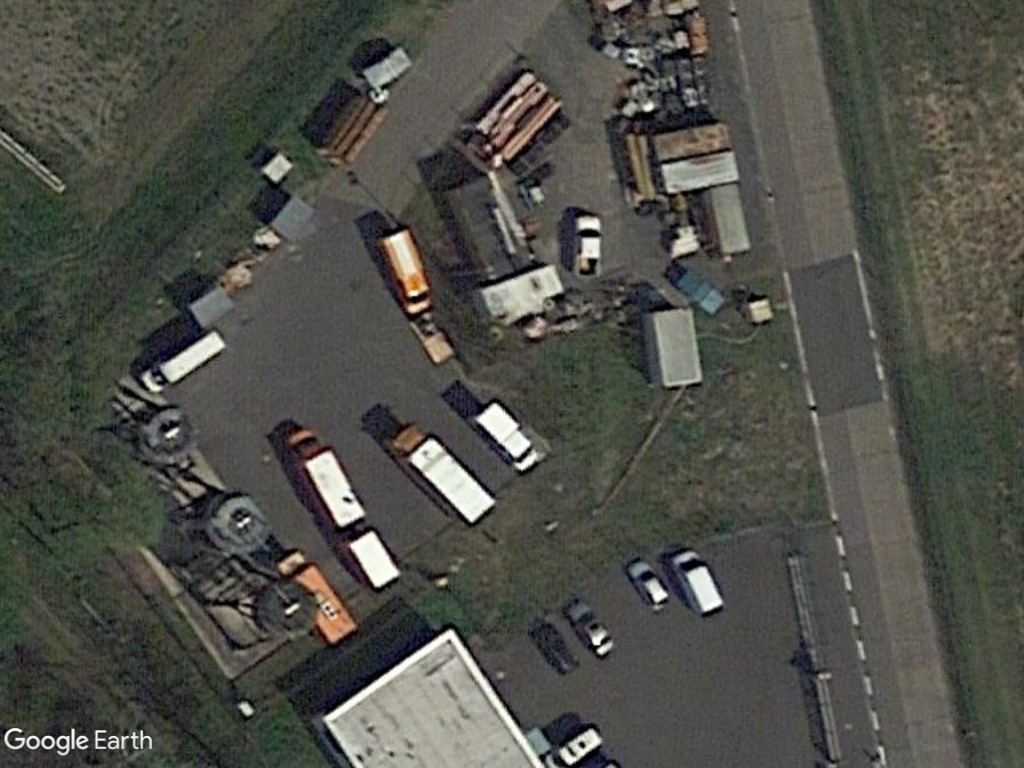car: (623, 556, 671, 616)
truck: (388, 417, 499, 529), (283, 428, 368, 535)
van: (137, 326, 226, 401), (372, 224, 440, 320), (669, 545, 727, 624)
